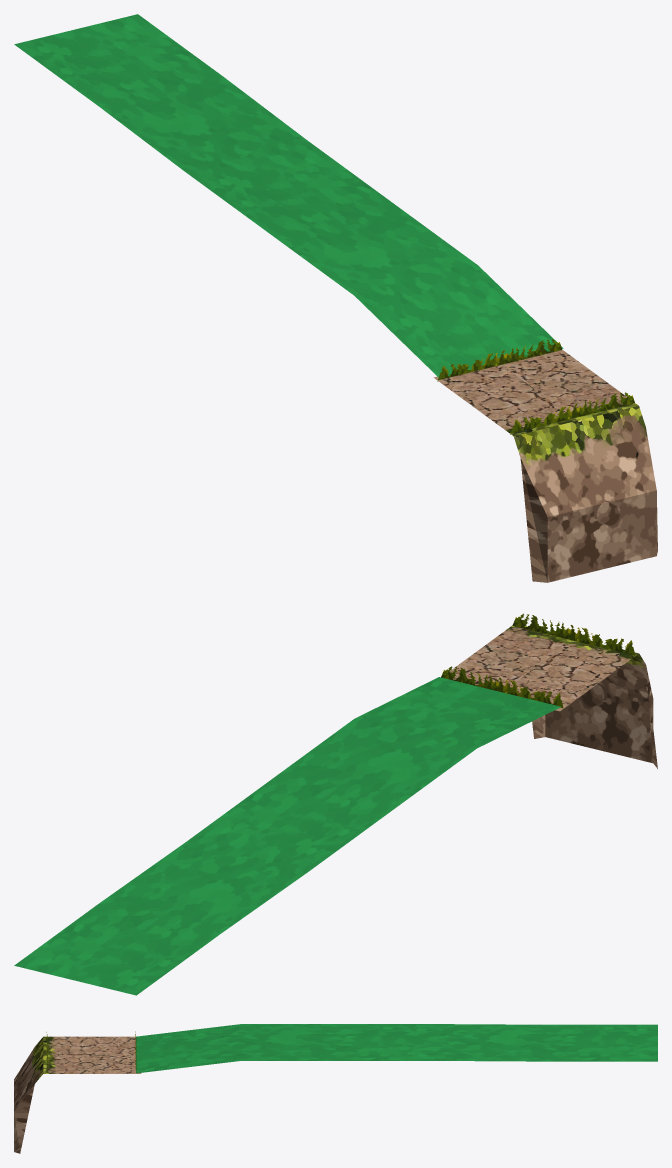
Rendered from terreno_05.FBX.
The picture shows the model from 3 angles, top to bottom: view 1: azimuth 30°, elevation 25°; view 2: azimuth 150°, elevation 25°; view 3: azimuth 270°, elevation 25°; orthographic projection. The views are drawn at different scales.
Visible parts, largest first — view 1: Terreno015; view 2: Terreno015; view 3: Terreno015.
Boxes of the visible parts, x1,y1,x2,y2 form: Terreno015: (14,14,657,582); Terreno015: (14,613,657,995); Terreno015: (14,1024,657,1153).
Bounding box in the file's own units: 2.05 × 14.59 × 2.33.
2 materials, 2 textured.
